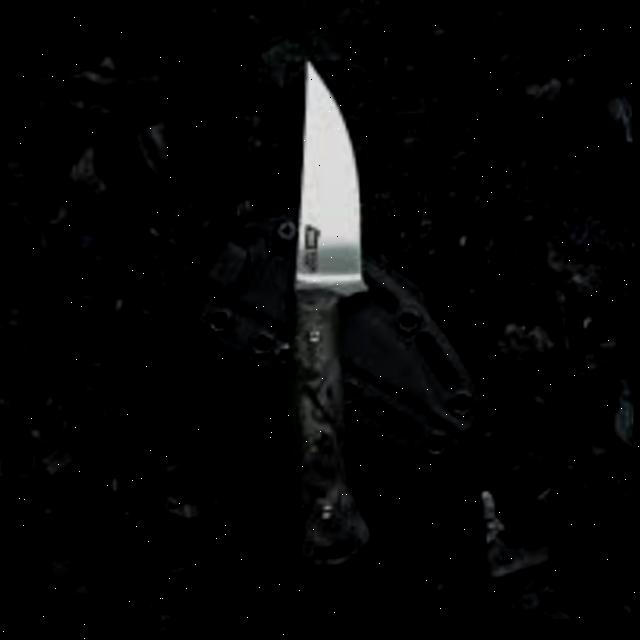Knife: (276, 53, 386, 571)
